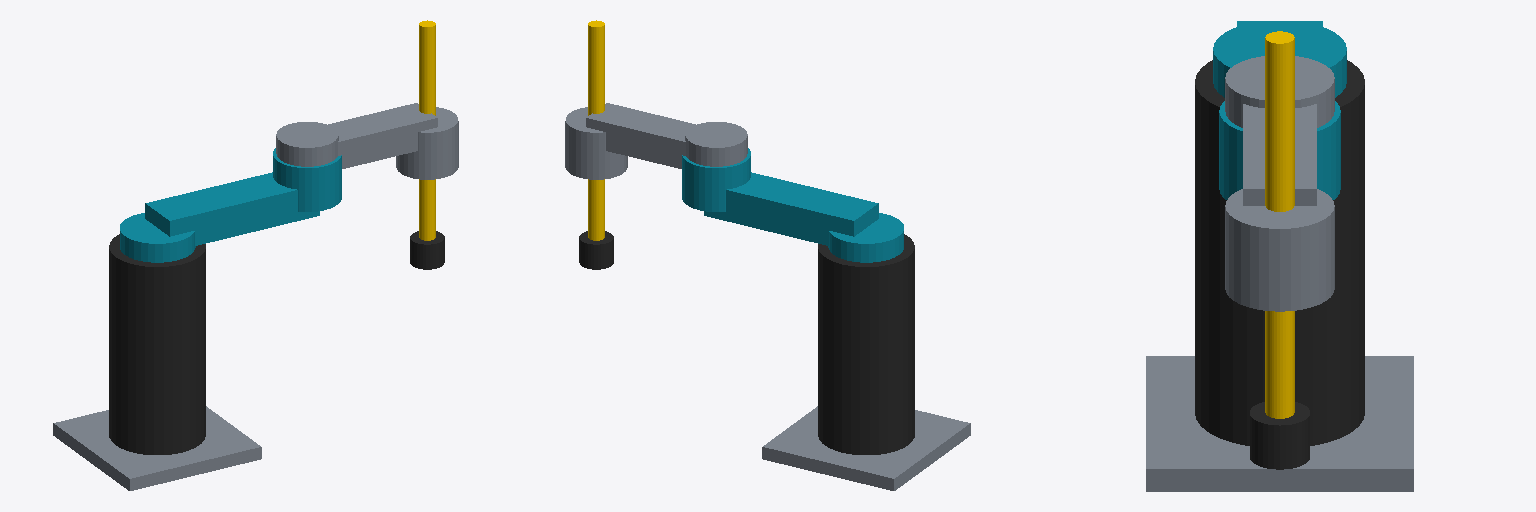
The robot description file, URDF, robot "scara":
<?xml version="1.0"?>
<!-- SCARA générique RRPR (4 ddl) — modèle pédagogique original, MIRA / Aflokkat.
     Géométrie en primitives (aucun maillage). Unités : mètres, radians.
     Articulation 3 prismatique d'axe -Z (le coulisseau descend quand q3 > 0), articulation 4 rotoïde d'axe -Z. -->
<robot name="scara">
  <material name="gris"><color rgba="0.55 0.58 0.62 1"/></material>
  <material name="turquoise"><color rgba="0.09 0.60 0.69 1"/></material>
  <material name="anthracite"><color rgba="0.21 0.21 0.21 1"/></material>
  <material name="jaune"><color rgba="1.0 0.81 0.0 1"/></material>

  <link name="base_link">
    <visual>
      <origin xyz="0 0 0.16" rpy="0 0 0"/>
      <geometry><cylinder radius="0.07" length="0.32"/></geometry>
      <material name="anthracite"/>
    </visual>
    <visual>
      <origin xyz="0 0 0.01" rpy="0 0 0"/>
      <geometry><box size="0.22 0.22 0.02"/></geometry>
      <material name="gris"/>
    </visual>
  </link>

  <joint name="joint1" type="revolute">
    <parent link="base_link"/>
    <child link="link1"/>
    <origin xyz="0 0 0.35" rpy="0 0 0"/>
    <axis xyz="0 0 1"/>
    <limit lower="-2.2689" upper="2.2689" effort="100" velocity="3.0"/>
  </joint>

  <link name="link1">
    <visual>
      <origin xyz="0 0 -0.03" rpy="0 0 0"/>
      <geometry><cylinder radius="0.055" length="0.06"/></geometry>
      <material name="turquoise"/>
    </visual>
    <visual>
      <origin xyz="0.125 0 0" rpy="0 0 0"/>
      <geometry><box size="0.25 0.07 0.05"/></geometry>
      <material name="turquoise"/>
    </visual>
    <visual>
      <origin xyz="0.25 0 0.025" rpy="0 0 0"/>
      <geometry><cylinder radius="0.05" length="0.07"/></geometry>
      <material name="turquoise"/>
    </visual>
  </link>

  <joint name="joint2" type="revolute">
    <parent link="link1"/>
    <child link="link2"/>
    <origin xyz="0.25 0 0.06" rpy="0 0 0"/>
    <axis xyz="0 0 1"/>
    <limit lower="-2.5307" upper="2.5307" effort="60" velocity="4.0"/>
  </joint>

  <link name="link2">
    <visual>
      <origin xyz="0.10 0 0" rpy="0 0 0"/>
      <geometry><box size="0.20 0.06 0.045"/></geometry>
      <material name="gris"/>
    </visual>
    <visual>
      <origin xyz="0 0 0" rpy="0 0 0"/>
      <geometry><cylinder radius="0.045" length="0.06"/></geometry>
      <material name="gris"/>
    </visual>
    <visual>
      <origin xyz="0.20 0 -0.03" rpy="0 0 0"/>
      <geometry><cylinder radius="0.045" length="0.075"/></geometry>
      <material name="gris"/>
    </visual>
  </link>

  <joint name="joint3" type="prismatic">
    <parent link="link2"/>
    <child link="link3"/>
    <origin xyz="0.20 0 -0.03" rpy="0 0 0"/>
    <axis xyz="0 0 -1"/>
    <limit lower="0" upper="0.15" effort="200" velocity="0.5"/>
  </joint>

  <link name="link3">
    <visual>
      <origin xyz="0 0 0.02" rpy="0 0 0"/>
      <geometry><cylinder radius="0.012" length="0.34"/></geometry>
      <material name="jaune"/>
    </visual>
  </link>

  <joint name="joint4" type="revolute">
    <parent link="link3"/>
    <child link="link4"/>
    <origin xyz="0 0 -0.15" rpy="0 0 0"/>
    <axis xyz="0 0 -1"/>
    <limit lower="-6.2832" upper="6.2832" effort="20" velocity="6.0"/>
  </joint>

  <link name="link4">
    <visual>
      <origin xyz="0 0 -0.02" rpy="0 0 0"/>
      <geometry><cylinder radius="0.025" length="0.04"/></geometry>
      <material name="anthracite"/>
    </visual>
  </link>

  <joint name="tool0_fixed" type="fixed">
    <parent link="link4"/>
    <child link="tool0"/>
    <origin xyz="0 0 -0.04" rpy="0 0 0"/>
  </joint>

  <link name="tool0"/>
</robot>

--- Facts derived from the render (not from the file) ---
Views: 3 orthographic renders of the robot side by side, from view 1: azimuth 30°, elevation 25°; view 2: azimuth 150°, elevation 25°; view 3: azimuth 270°, elevation 25°.
Model scara with 6 links and 5 joints (3 revolute, 1 prismatic, 1 fixed), rooted at base_link, posed every joint at zero.
Links seen in each view (by area): view 1: base_link, link1, link2, link3, link4; view 2: base_link, link1, link2, link3, link4; view 3: base_link, link2, link3, link1, link4.
Link boxes in pixels (box(x1,y1,x2,y2)): base_link: box(53, 234, 261, 490); link1: box(120, 148, 341, 262); link2: box(276, 103, 458, 179); link3: box(419, 20, 435, 240); link4: box(410, 231, 444, 269); base_link: box(762, 234, 970, 490); link1: box(682, 148, 903, 262); link2: box(565, 103, 747, 179); link3: box(588, 20, 604, 240); link4: box(579, 231, 613, 269); base_link: box(1146, 60, 1413, 491); link2: box(1225, 56, 1334, 311); link3: box(1265, 31, 1294, 418); link1: box(1213, 21, 1346, 199); link4: box(1250, 402, 1309, 469).
Bounding box of the posed robot: 0.605 × 0.22 × 0.57 m (x, y, z).
Geometry: primitives only (box / cylinder / sphere), no mesh files.
